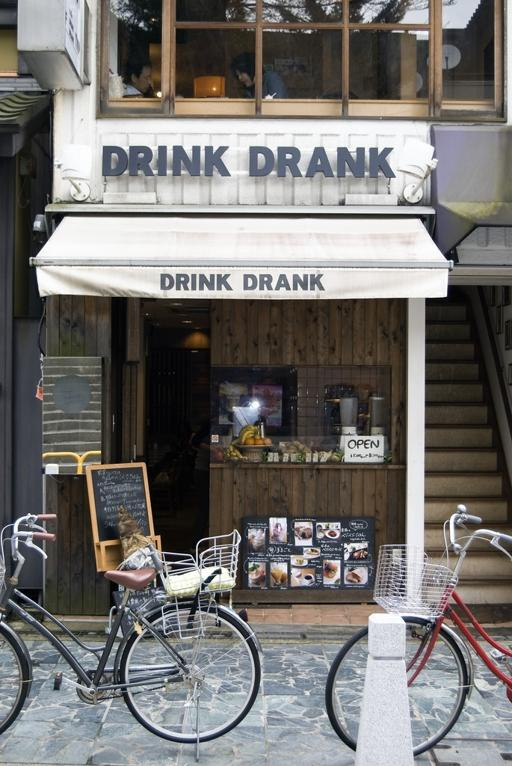non-vehicle: (0, 512, 264, 762), (323, 503, 512, 758)
